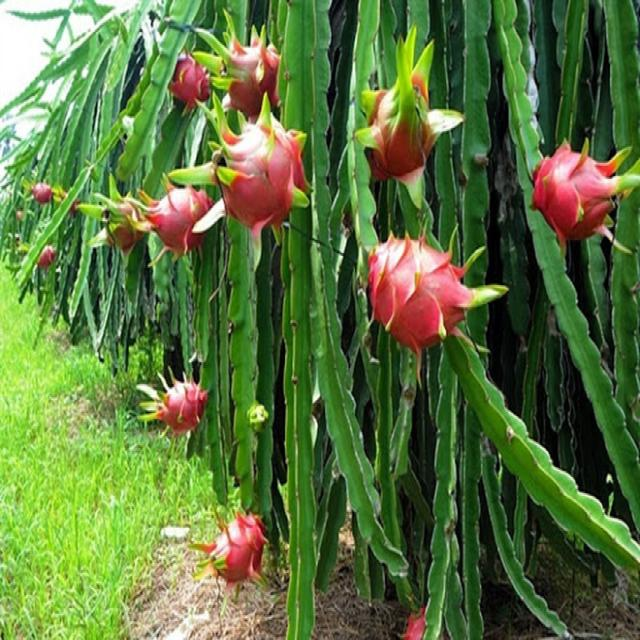Thanh Long: (366, 229, 498, 356), (531, 144, 640, 252), (208, 117, 311, 231), (362, 77, 445, 187), (205, 26, 288, 112), (136, 183, 215, 252), (136, 378, 220, 433), (208, 517, 272, 584), (100, 187, 145, 249), (173, 46, 210, 102), (28, 181, 54, 209), (38, 243, 54, 268)
